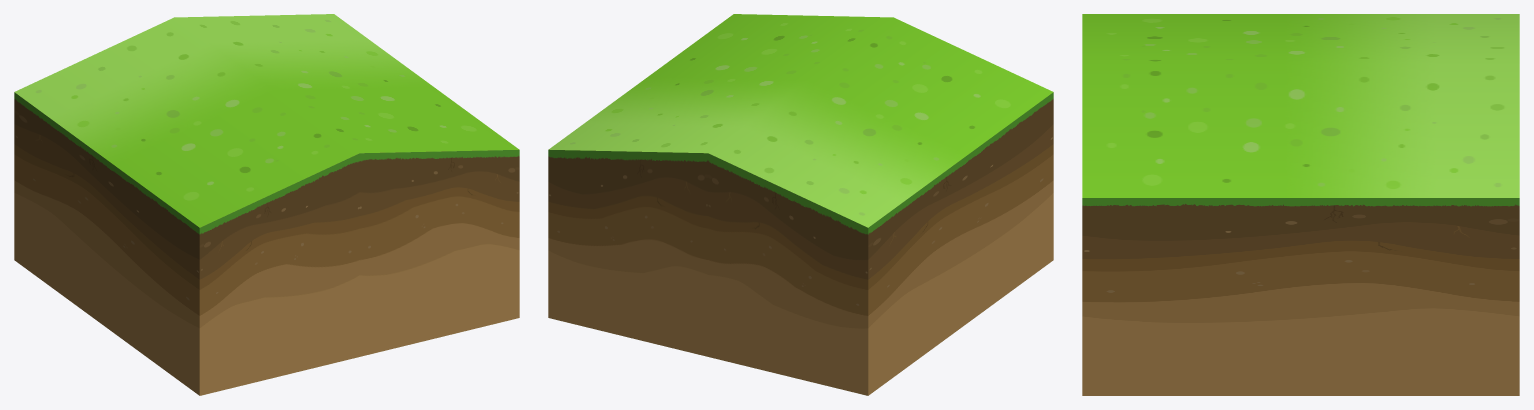
Rendered from Soutouh2.FBX.
The picture shows the model from 3 angles, left to right: view 1: azimuth 30°, elevation 25°; view 2: azimuth 150°, elevation 25°; view 3: azimuth 270°, elevation 25°; orthographic projection. The views are drawn at different scales.
Parts seen in each view (by area): view 1: Box06; view 2: Box06; view 3: Box06.
Part boxes in pixels (x1,y1,x2,y2): Box06: (14,14,519,395); Box06: (548,14,1053,395); Box06: (1082,14,1519,395).
Size of the model in its own units: 19.91 by 12.12 by 20.
2 materials, 2 textured.
